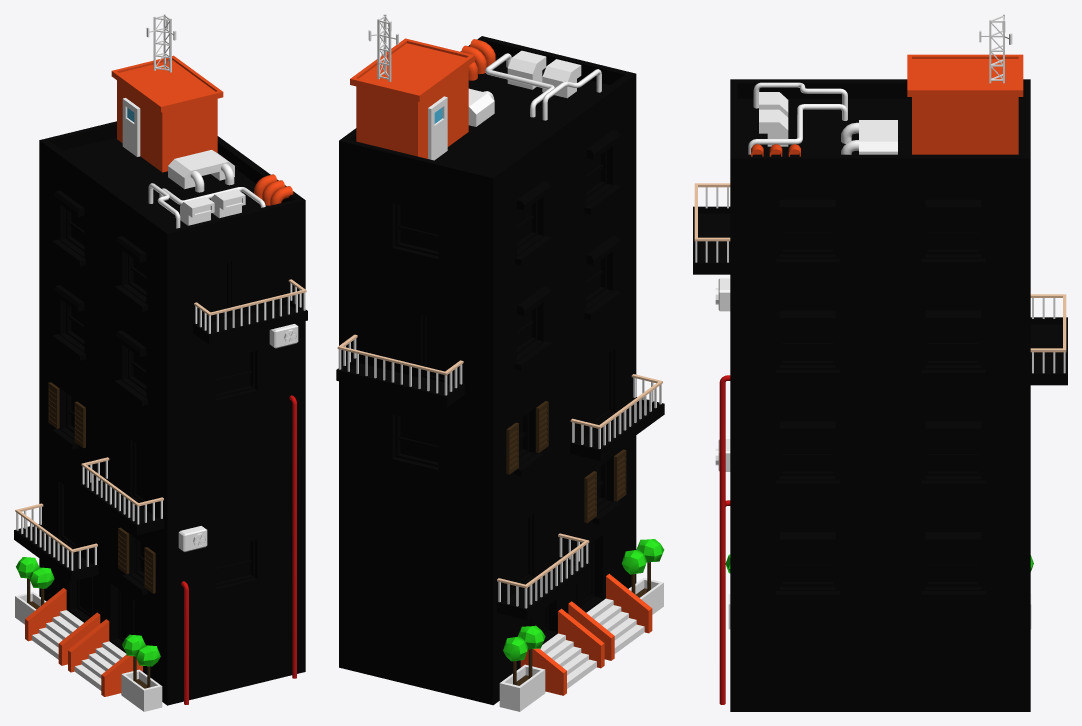
File: Building_04.FBX
3 views of the same model, side by side, from view 1: azimuth 30°, elevation 25°; view 2: azimuth 150°, elevation 25°; view 3: azimuth 270°, elevation 25° (orthographic). The views are drawn at different scales.
Parts seen in each view (by area): view 1: Buildings_04; view 2: Buildings_04; view 3: Buildings_04.
Boxes of the visible parts, x1,y1,x2,y2 form: Buildings_04: (14,14,307,711); Buildings_04: (336,14,664,711); Buildings_04: (693,14,1067,711).
Size of the model in its own units: 15.67 by 47.17 by 23.64.
